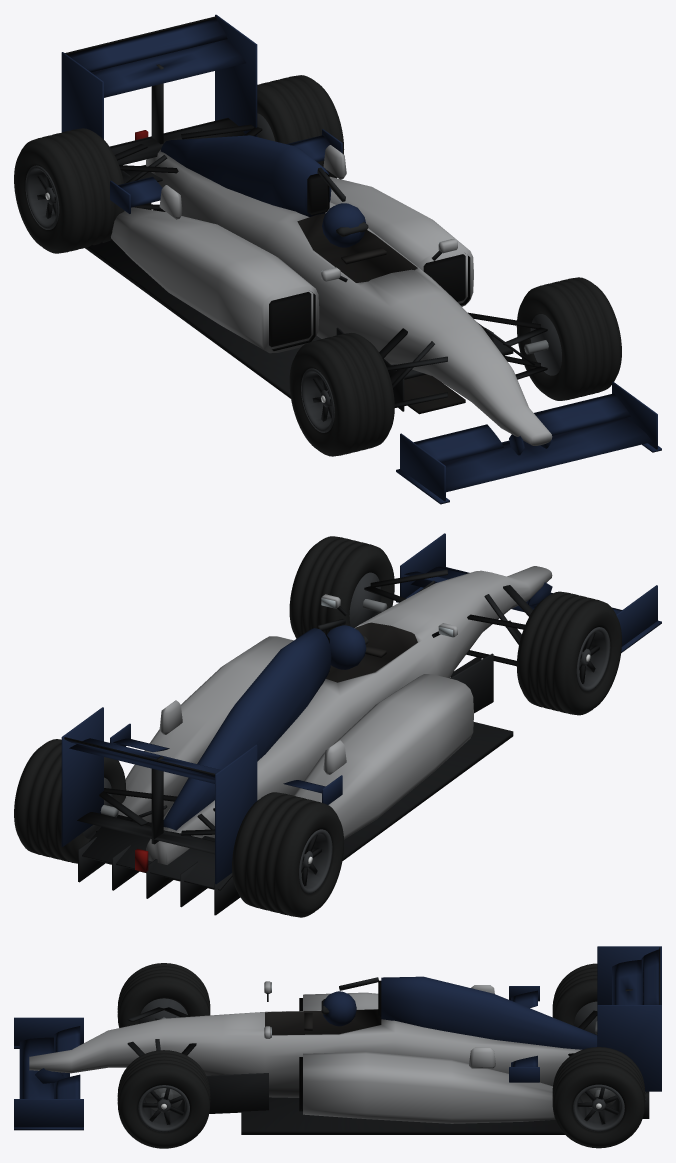
File: williams-fw26-bmw.glb
The picture shows the model from 3 angles, top to bottom: view 1: azimuth 30°, elevation 25°; view 2: azimuth 150°, elevation 25°; view 3: azimuth 270°, elevation 25°; orthographic projection. The views are drawn at different scales.
Parts seen in each view (by area): view 1: Body, Wheel_RR, Wheel_FR, Wheel_FL, Wheel_RL; view 2: Body, Wheel_RR, Wheel_FR, Wheel_FL, Wheel_RL; view 3: Body, Wheel_RL, Wheel_FL, Wheel_FR, Wheel_RR.
Boxes of the visible parts, x1=… form: Body: x1=61, y1=14, x2=661, y2=504; Wheel_RR: x1=14, y1=128, x2=124, y2=253; Wheel_FR: x1=289, y1=333, x2=394, y2=456; Wheel_FL: x1=516, y1=277, x2=621, y2=400; Wheel_RL: x1=257, y1=75, x2=344, y2=178; Body: x1=61, y1=533, x2=661, y2=915; Wheel_RR: x1=232, y1=792, x2=343, y2=917; Wheel_FR: x1=516, y1=591, x2=621, y2=715; Wheel_FL: x1=289, y1=536, x2=394, y2=638; Wheel_RL: x1=14, y1=739, x2=126, y2=863; Body: x1=14, y1=946, x2=661, y2=1134; Wheel_RL: x1=552, y1=1047, x2=645, y2=1148; Wheel_FL: x1=117, y1=1050, x2=210, y2=1148; Wheel_FR: x1=117, y1=963, x2=210, y2=1027; Wheel_RR: x1=552, y1=963, x2=597, y2=1033.
Bounding box in the file's own units: 1.82 × 0.96 × 4.62.
